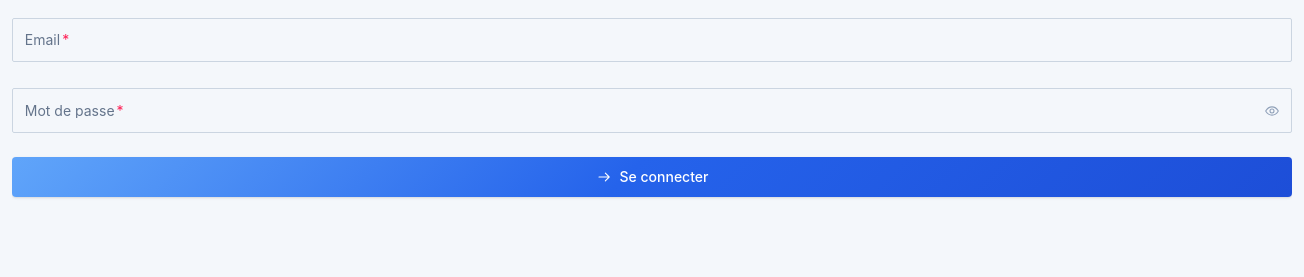
Test case: LoginForm › affiche le message d'erreur du backend sans rediriger
Type "inconnu@erp.test" into the field labelled "Email*". click: (652, 40)
box: x1=12 y1=18 x2=1292 y2=62
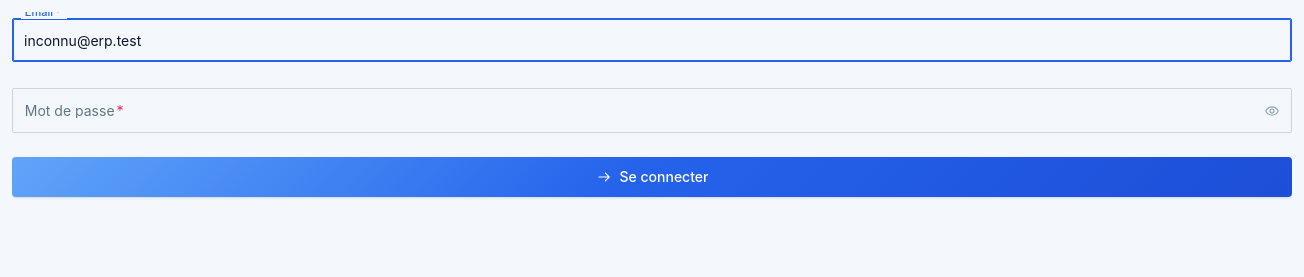
Type "mauvais" into the password field labelled "Mot de passe*". click: (652, 111)
box: x1=12 y1=89 x2=1292 y2=133
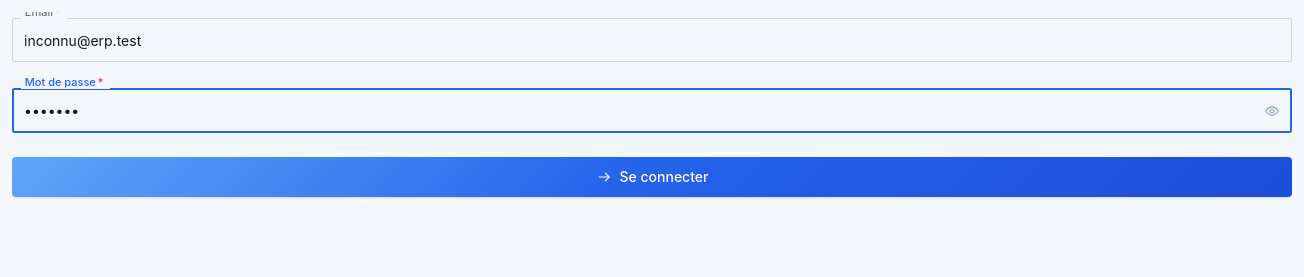
Click the button "Se connecter". click: (652, 177)
box: x1=12 y1=157 x2=1292 y2=197
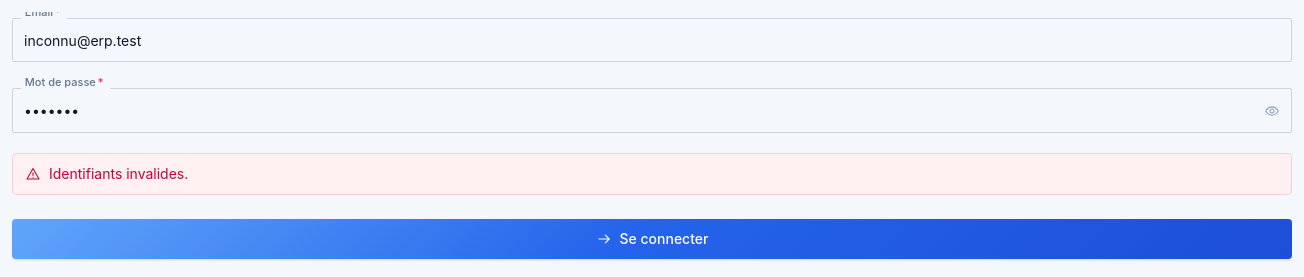
Check: the message reads "Identifiants invalides.", box x1=49 y1=165 x2=188 y2=182
